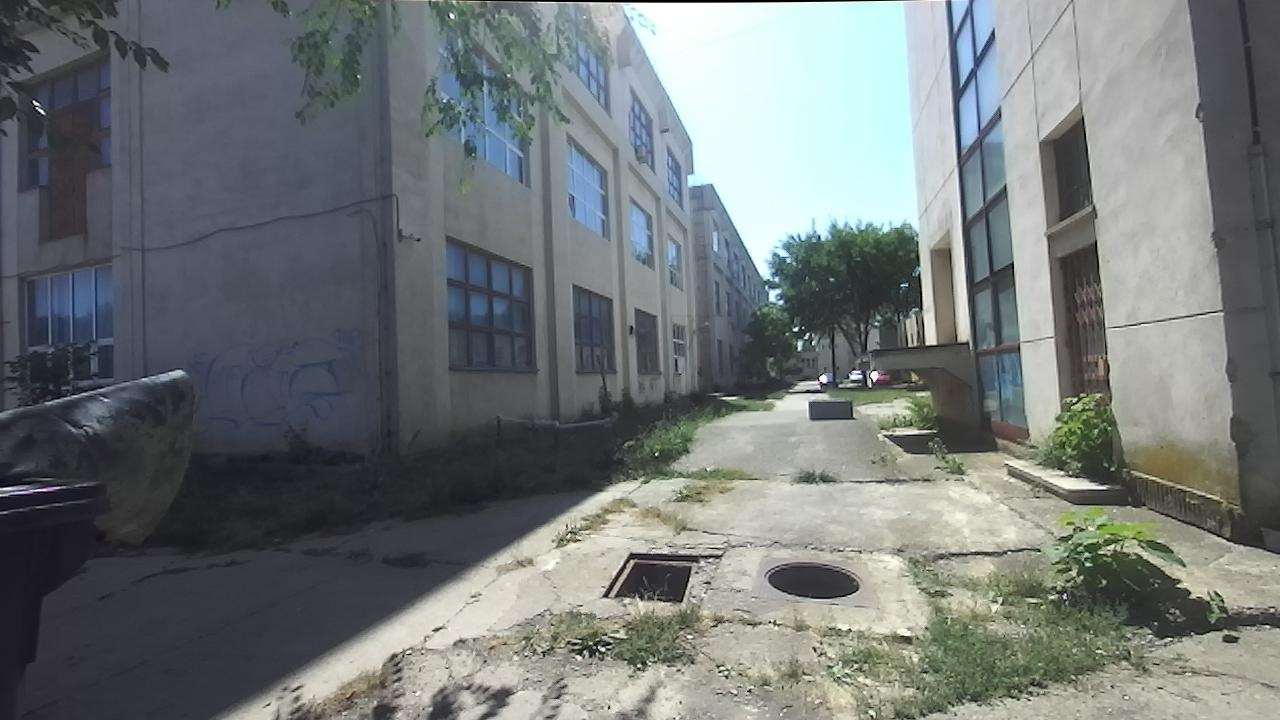drain: (597, 549, 702, 604), (758, 558, 867, 602)
